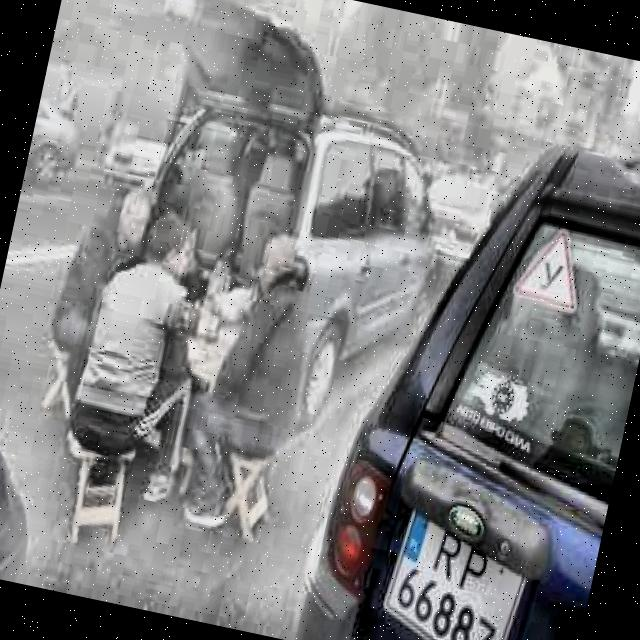license_plate: (373, 487, 532, 640)
